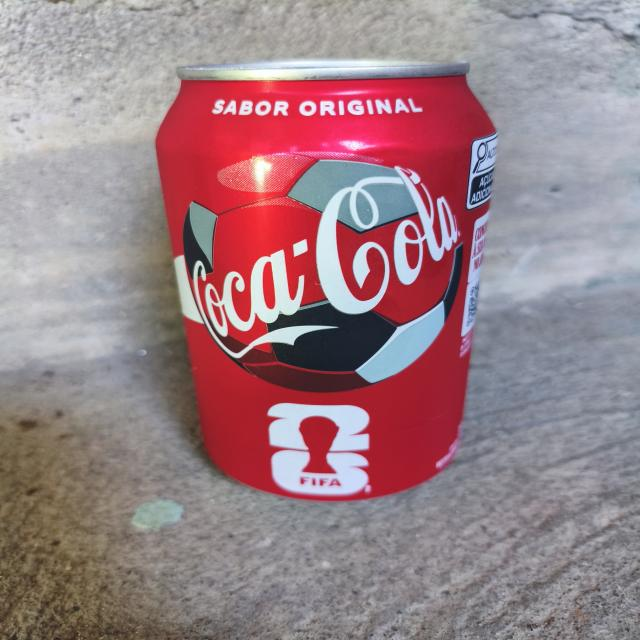Coca Cola: (136, 54, 502, 517)
